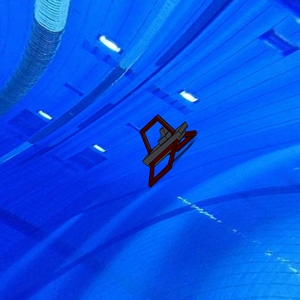submarine: (134, 113, 203, 191)
